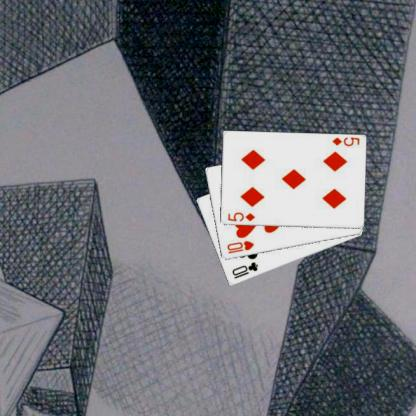10C: (229, 260, 260, 280)
10H: (224, 238, 255, 255)
5D: (225, 209, 256, 223), (329, 135, 360, 147)
